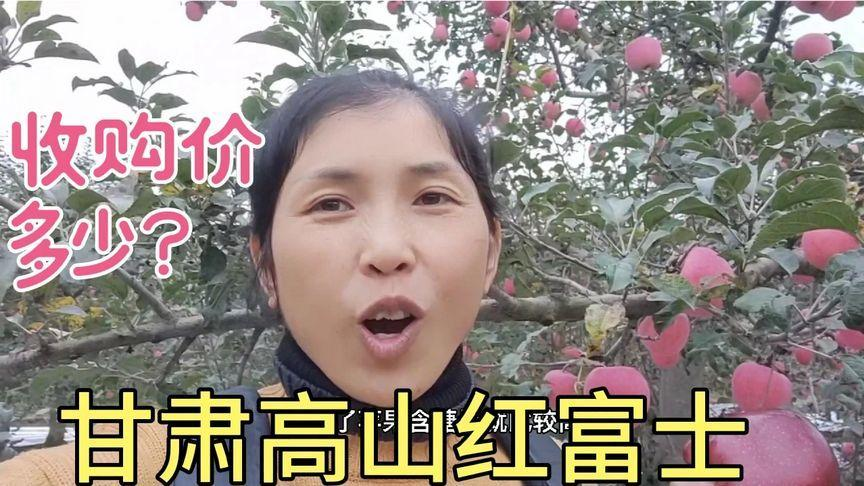apple: (620, 35, 664, 76), (724, 67, 762, 107), (792, 32, 834, 63)
